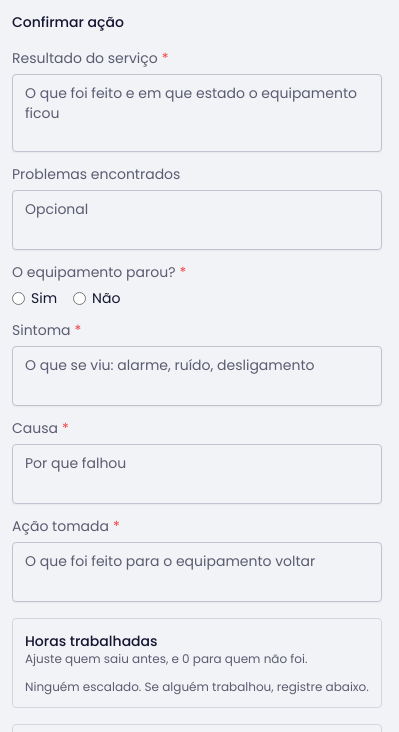
Test: ActionConfirmPanel — dados de falha › na corretiva, pergunta se parou; sem resposta, não confirma
Type "ok" into the text box labelled "Resultado do serviço*". click: (197, 113)
box: left=12, top=74, right=382, bottom=152
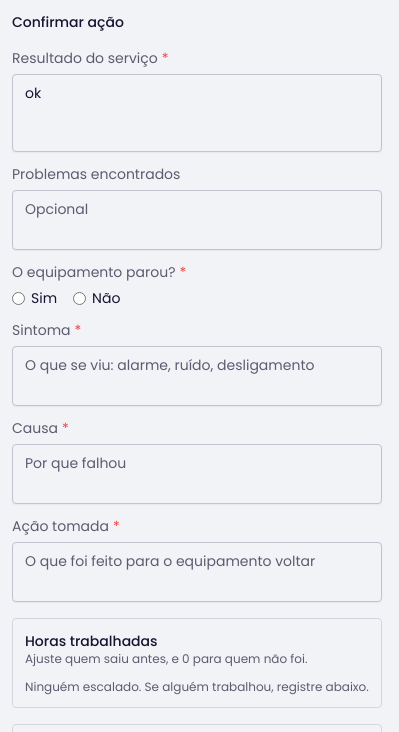
Type "Ruído" into the text box labelled "Sintoma*". click: (197, 376)
box: left=12, top=346, right=382, bottom=406
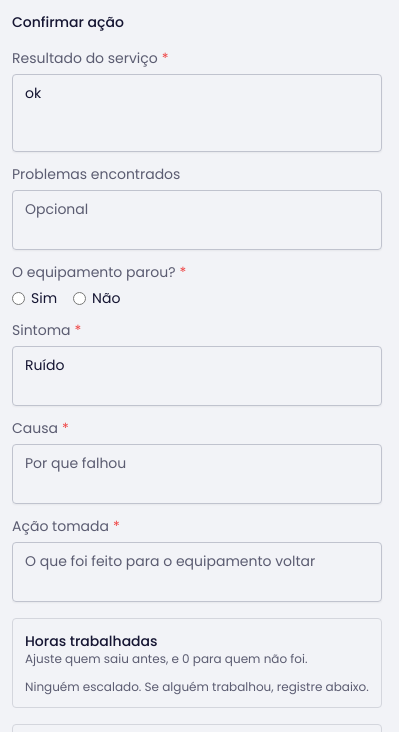
Type "Folga" into the text box labelled "Causa*". click: (197, 474)
box: left=12, top=444, right=382, bottom=504
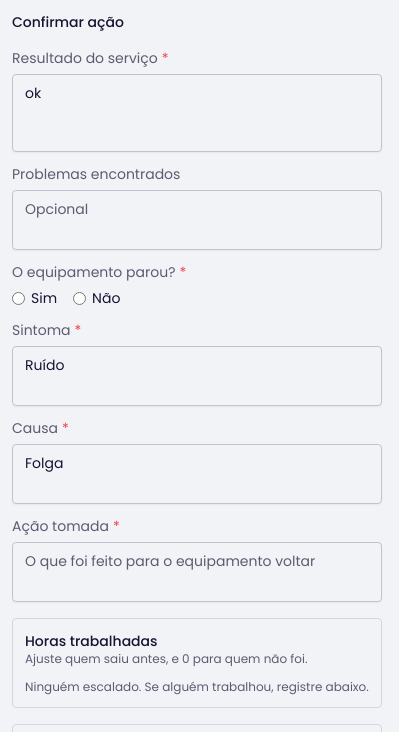
Type "Reaperto" into the text box labelled "Ação tomada*". click: (197, 572)
box: left=12, top=542, right=382, bottom=602
(page scrolled)
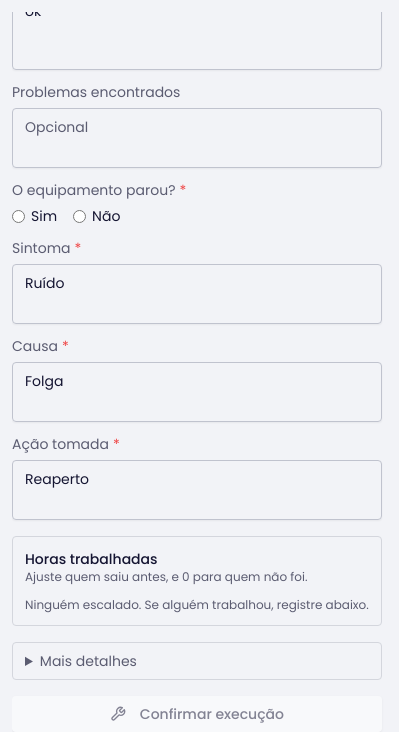
Check: the text "O equipamento parou?" is shown, box left=12, top=180, right=176, bottom=200
Check: the button "Confirmar execução" is disabled, box left=12, top=696, right=382, bottom=731
